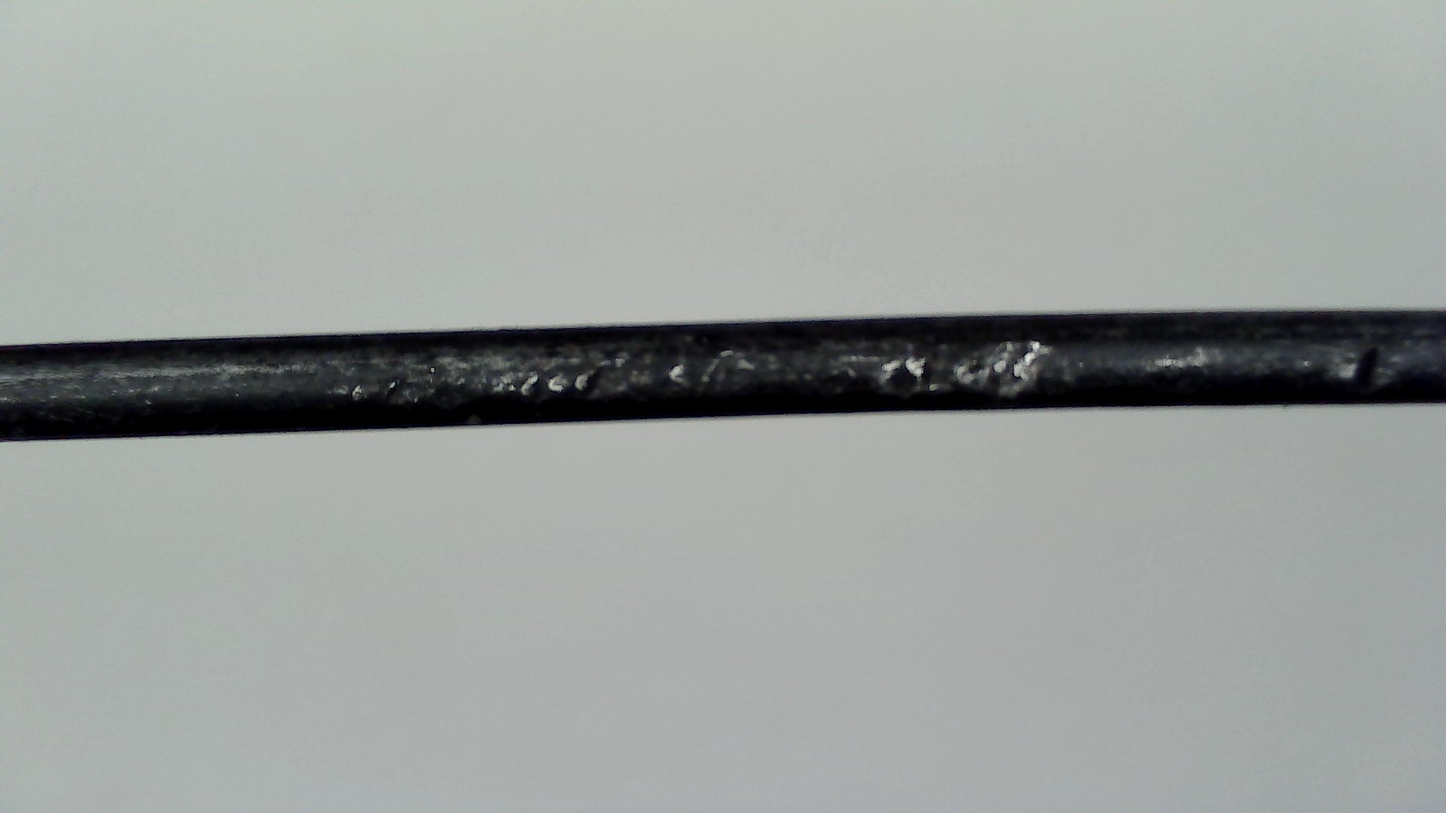defect: (355, 343, 1066, 406), (1334, 333, 1421, 388)
